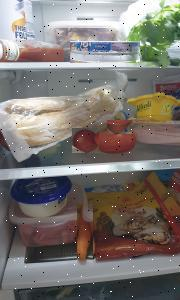Tomate: (96, 128, 138, 154), (72, 128, 99, 153), (108, 120, 133, 134)
Zanahoria: (78, 204, 93, 268)
